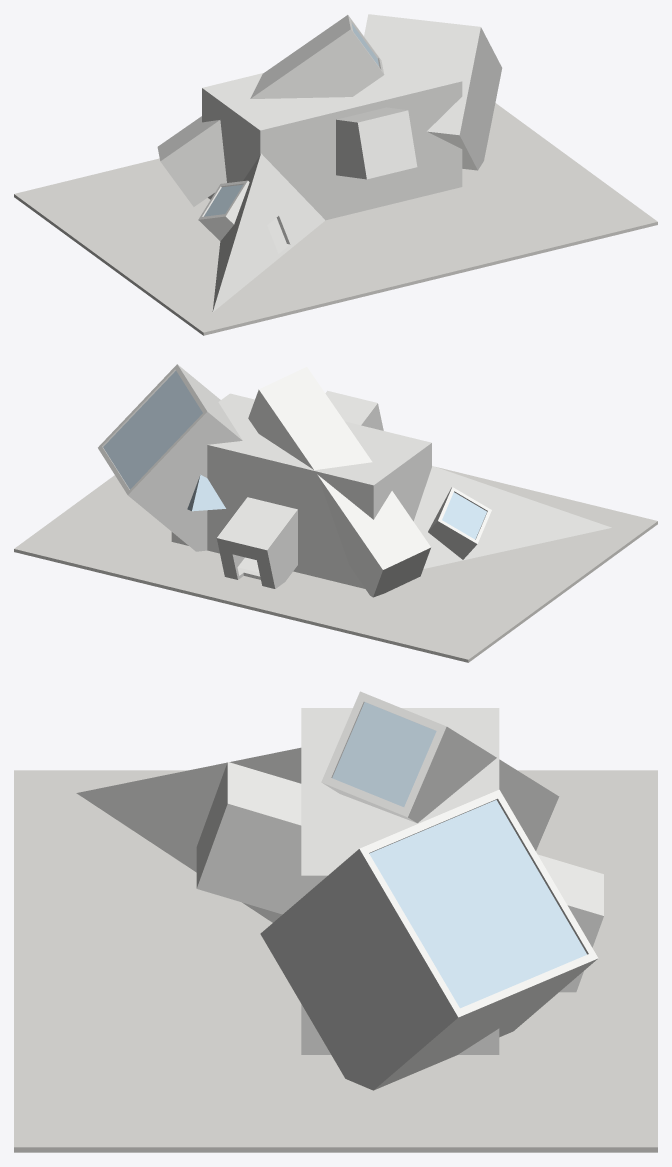
File: oblique-sema.glb
The picture shows the model from 3 angles, top to bottom: view 1: azimuth 30°, elevation 25°; view 2: azimuth 150°, elevation 25°; view 3: azimuth 270°, elevation 25°; orthographic projection. The views are drawn at different scales.
Parts seen in each view (by area): view 1: Bina_Duvarlar, Sema_Taban, Cam_Kucuk_Kup_cam; view 2: Bina_Duvarlar, Sema_Taban, Cam_Buyuk_Egik_cam, Cam_Kucuk_Kup_cam, Piramit_Eskenar_5m; view 3: Sema_Taban, Bina_Duvarlar, Cam_Buyuk_Egik_cam, Pencere_Egik_Uc_cam.
Boxes of the visible parts, left/top/right/bottom form: Bina_Duvarlar: left=157, top=14, right=502, bottom=311; Sema_Taban: left=14, top=103, right=657, bottom=335; Cam_Kucuk_Kup_cam: left=204, top=184, right=242, bottom=216; Bina_Duvarlar: left=98, top=364, right=611, bottom=597; Sema_Taban: left=14, top=467, right=657, bottom=662; Cam_Buyuk_Egik_cam: left=103, top=371, right=202, bottom=489; Cam_Kucuk_Kup_cam: left=442, top=492, right=486, bottom=539; Piramit_Eskenar_5m: left=187, top=474, right=225, bottom=511; Sema_Taban: left=14, top=770, right=657, bottom=1152; Bina_Duvarlar: left=76, top=691, right=603, bottom=1090; Cam_Buyuk_Egik_cam: left=369, top=800, right=586, bottom=1008; Pencere_Egik_Uc_cam: left=332, top=702, right=436, bottom=806.
Size of the model in its own units: 45 by 16.21 by 32.5.
